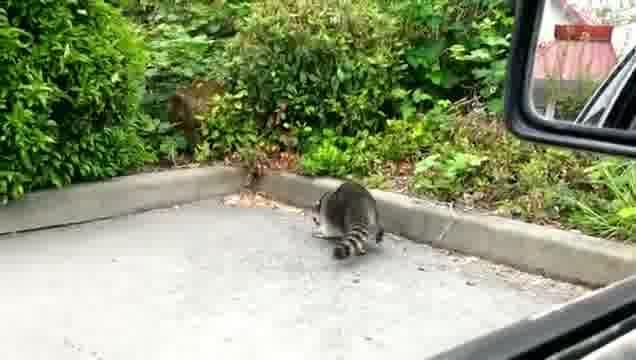raccoon: (306, 182, 389, 260)
